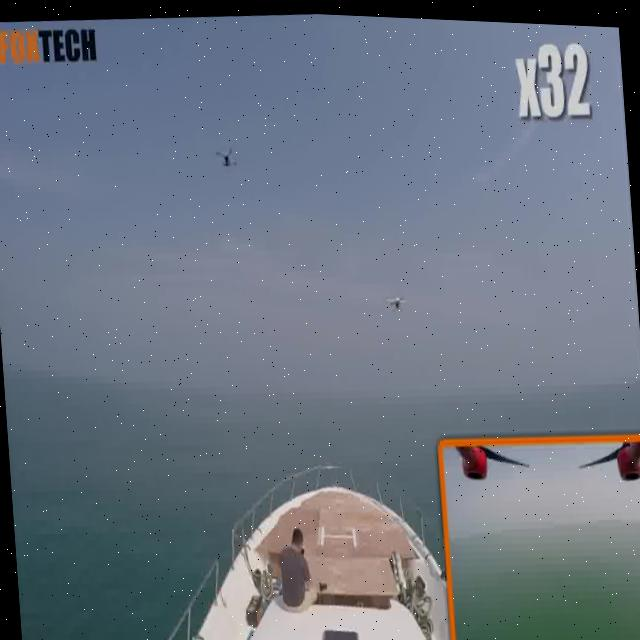drone: (212, 129, 242, 182), (378, 278, 411, 311)
